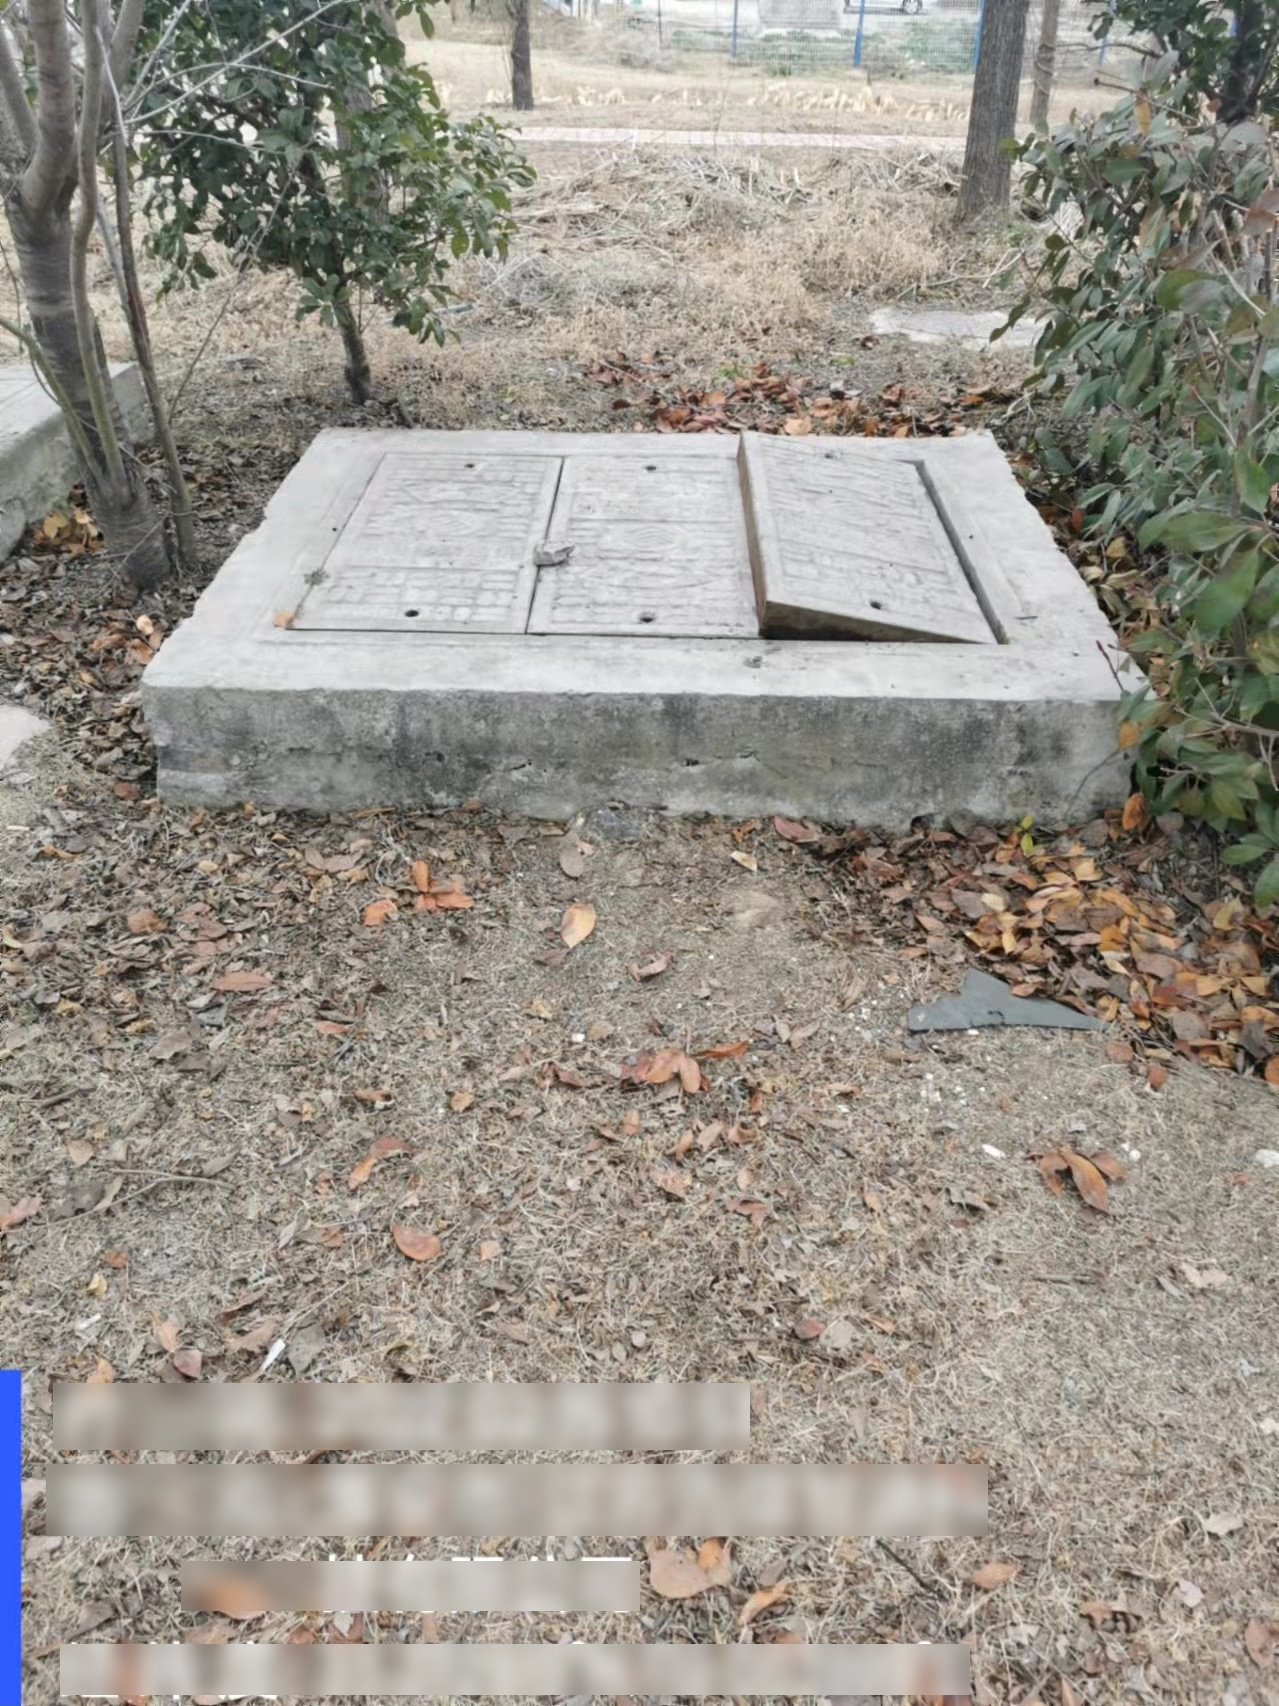well: (239, 429, 1043, 673)
